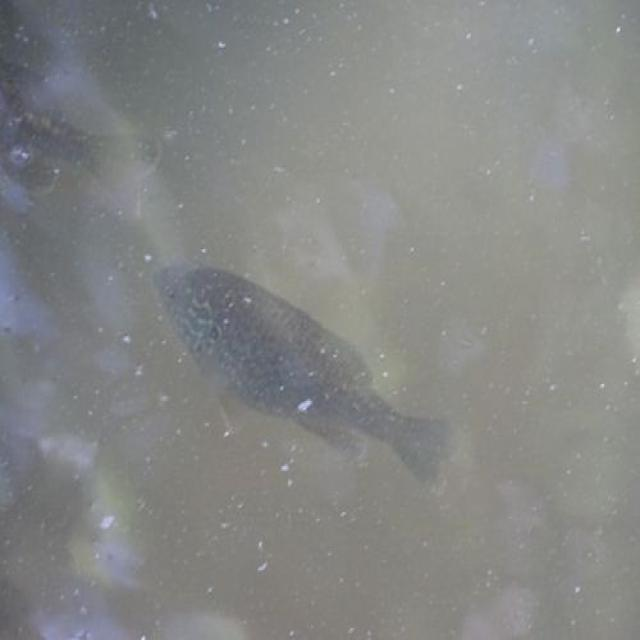Gunes Levregi: (147, 253, 482, 513)
